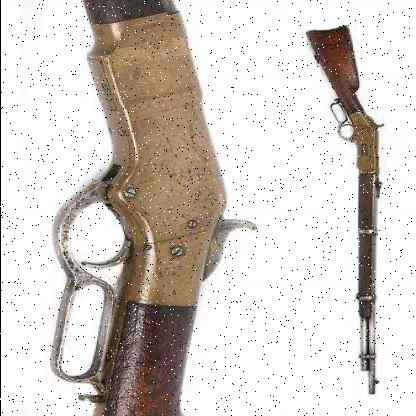rifle: (29, 0, 211, 415), (271, 22, 391, 408)
